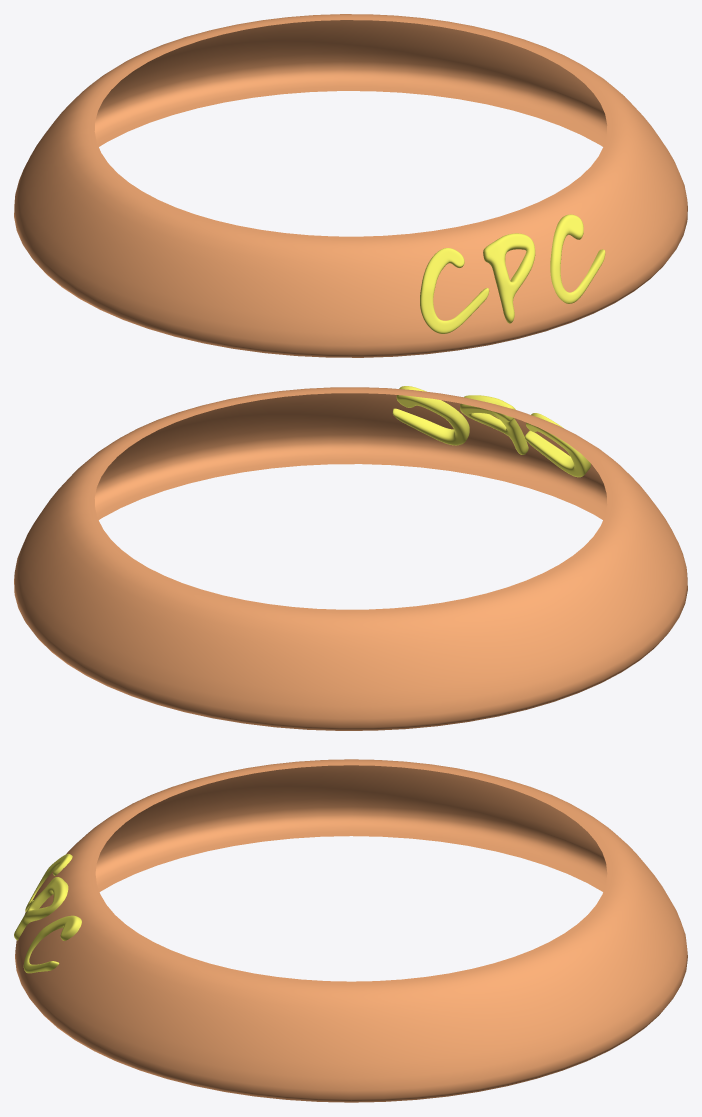
The model's file is Headband.gltf.
3 renders of one model, top to bottom at view 1: azimuth 30°, elevation 25°; view 2: azimuth 150°, elevation 25°; view 3: azimuth 270°, elevation 25°, orthographic.
Visible parts, largest first — view 1: Headband1-PBR.1, Headband1-PBR; view 2: Headband1-PBR.1, Headband1-PBR; view 3: Headband1-PBR.1, Headband1-PBR.
Part boxes in pixels (bbox=[...]): Headband1-PBR.1: bbox=[14, 14, 687, 357]; Headband1-PBR: bbox=[420, 214, 605, 333]; Headband1-PBR.1: bbox=[14, 387, 687, 730]; Headband1-PBR: bbox=[392, 386, 590, 477]; Headband1-PBR.1: bbox=[15, 759, 687, 1102]; Headband1-PBR: bbox=[14, 854, 81, 973].
Size of the model in its own units: 6.39 by 0.9621 by 6.4.
